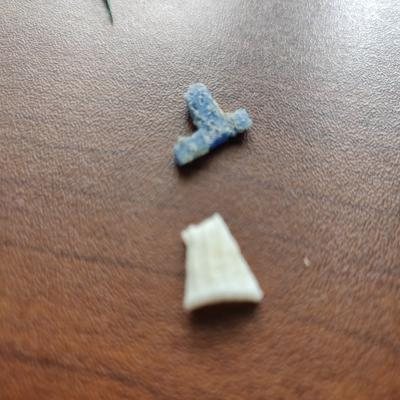plastic: (155, 78, 258, 181), (177, 208, 266, 320)
